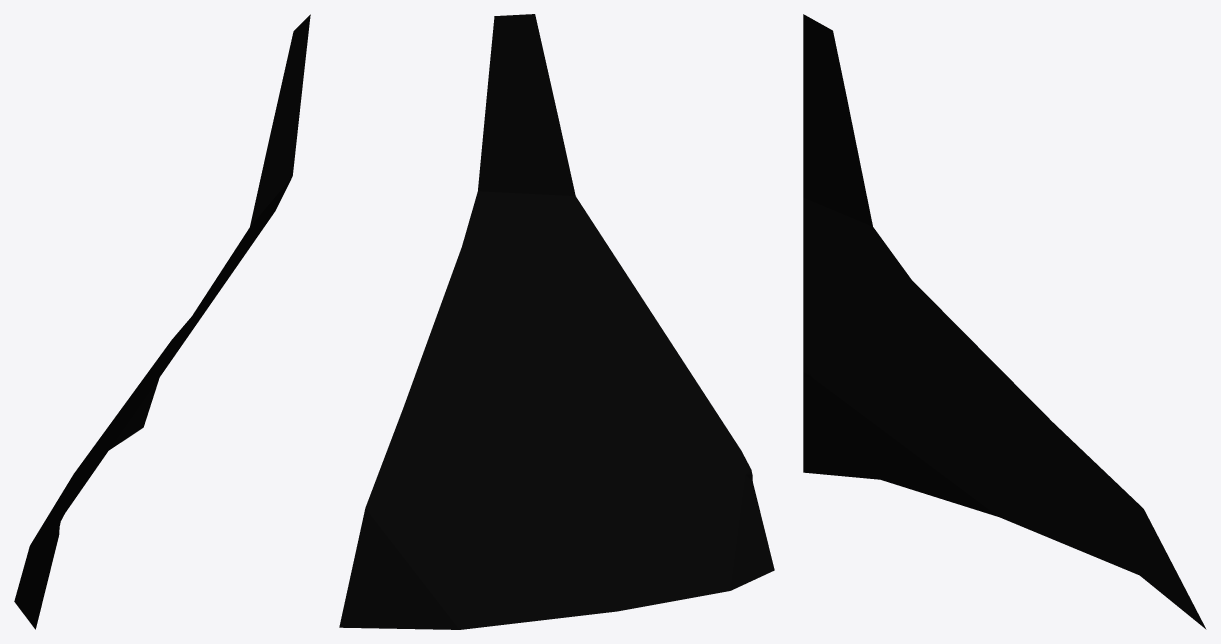
3 views of the same model, side by side, from view 1: azimuth 30°, elevation 25°; view 2: azimuth 150°, elevation 25°; view 3: azimuth 270°, elevation 25° (orthographic). The views are drawn at different scales.
Size of the model in its own units: 1.66 by 2.95 by 1.8.
1 material, 1 textured.
